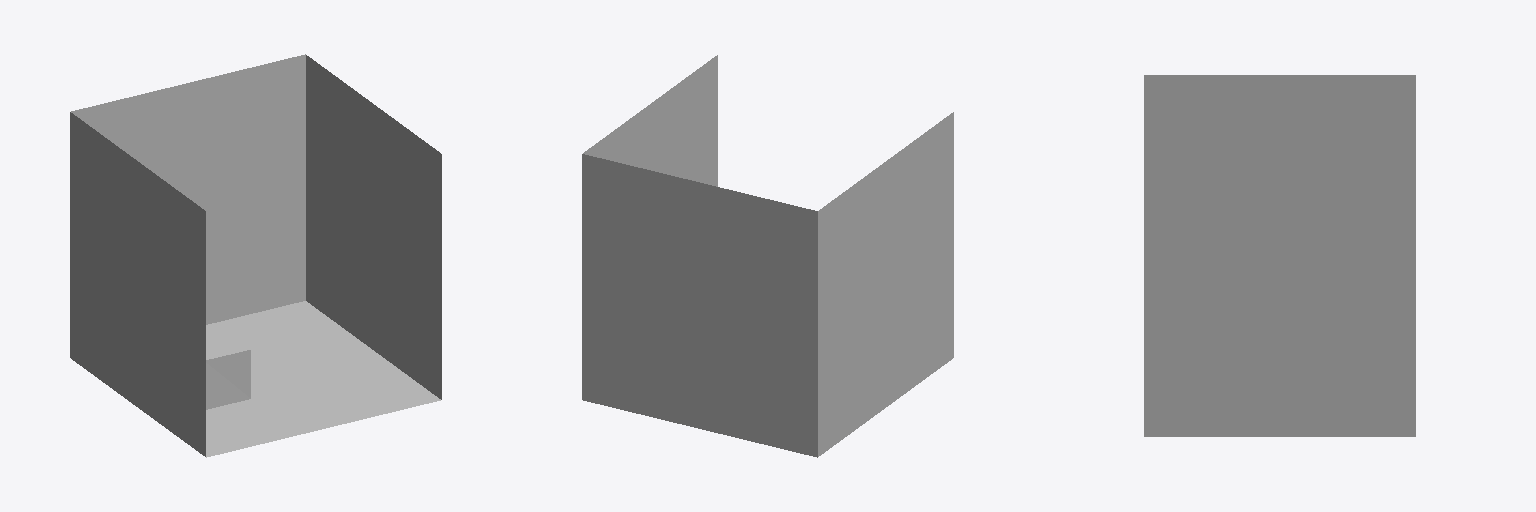
File: molehouseindoors.obj
The picture shows the model from 3 angles: view 1: azimuth 30°, elevation 25°; view 2: azimuth 150°, elevation 25°; view 3: azimuth 270°, elevation 25°; orthographic projection.
Parts seen in each view (by area): view 1: Cube; view 2: Cube; view 3: Cube.
Part boxes in pixels (bbox=[...]): Cube: bbox=[70, 54, 441, 457]; Cube: bbox=[582, 55, 953, 457]; Cube: bbox=[1144, 75, 1415, 436].
Bounding box in the file's own units: 2.5 × 2.5 × 2.5.